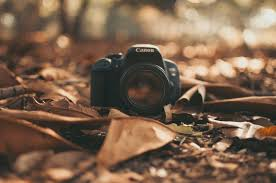camera: (90, 46, 178, 115)
